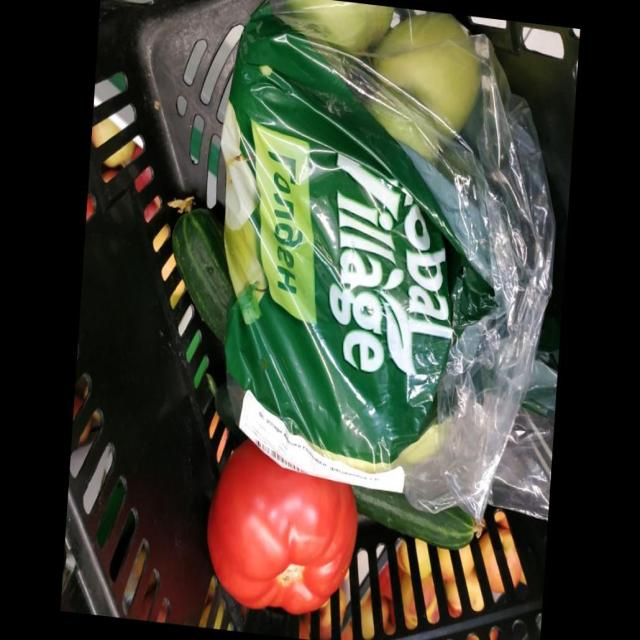Apple: (375, 12, 480, 137), (288, 0, 393, 54)
Cucumber: (173, 209, 235, 343), (353, 486, 472, 547)
Tomatoes: (208, 438, 358, 611)
